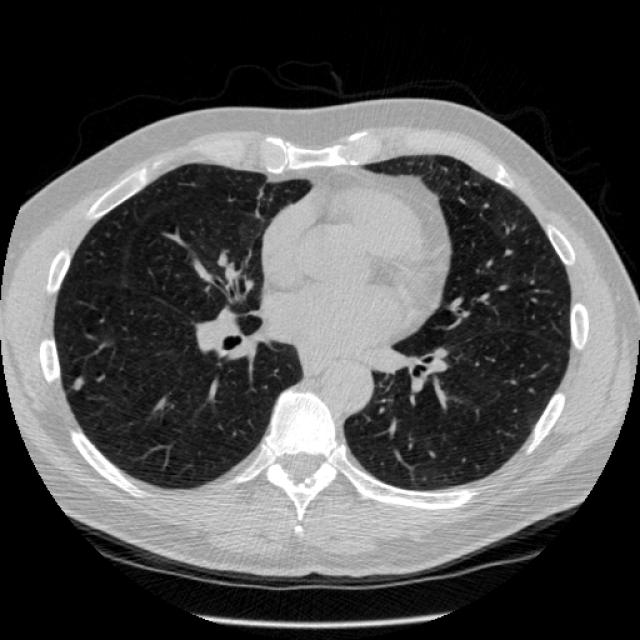nodule: (62, 369, 90, 396)
